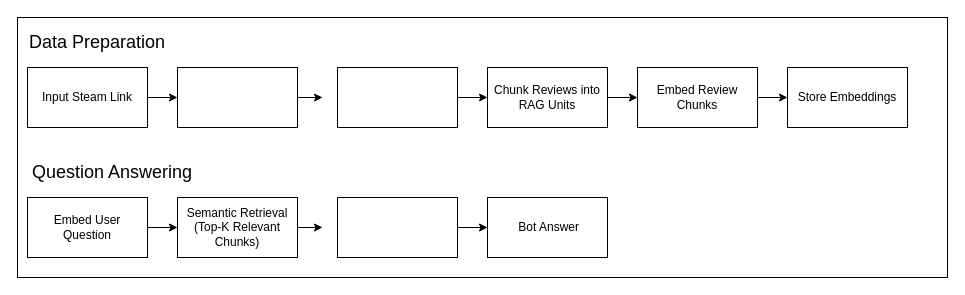
Some shapes in this 965 by 295 pixel diagram are drawn without their labels. Each missing label, with the centre of its shape:
Clean & Preprocess Reviews: point (397, 97)
LLM with Retrieved Context: point (397, 227)
Scrape Steam Reviews (by Game ID): point (237, 97)
